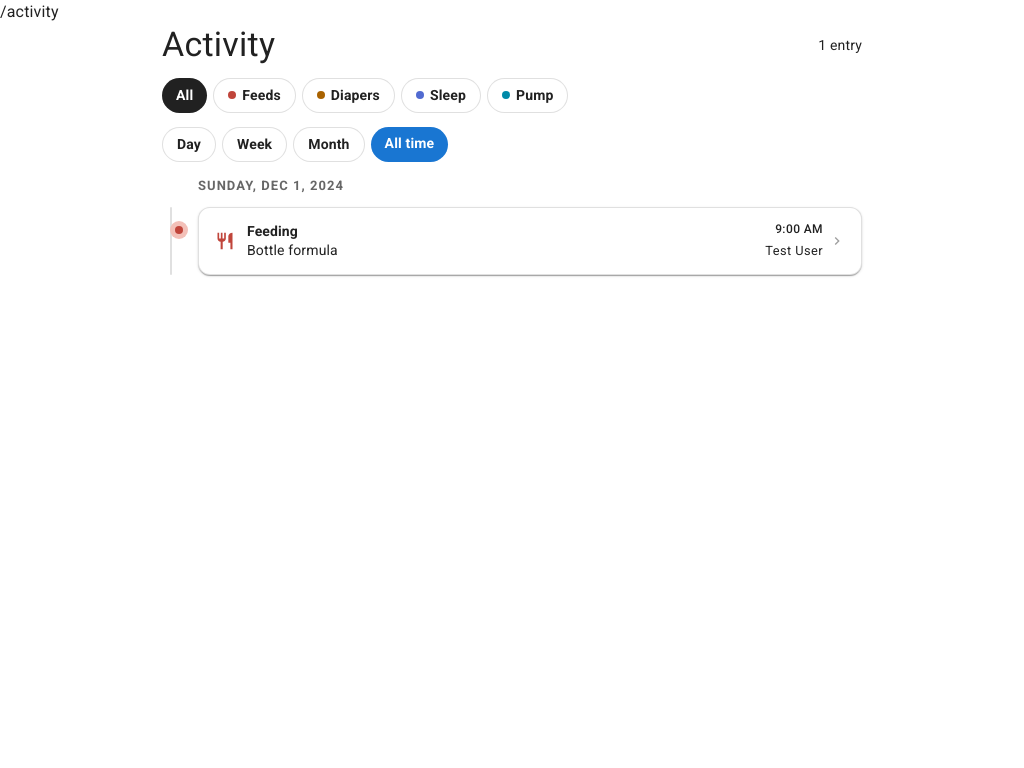
it: tapping an activity entry › navigates from the activity feed to the entry's section page in edit mode
The image size is (1024, 768).
Click the button with aria-label "Edit Feeding, Bottle formula at": [272, 231] box x1=198 y1=208 x2=862 y2=275
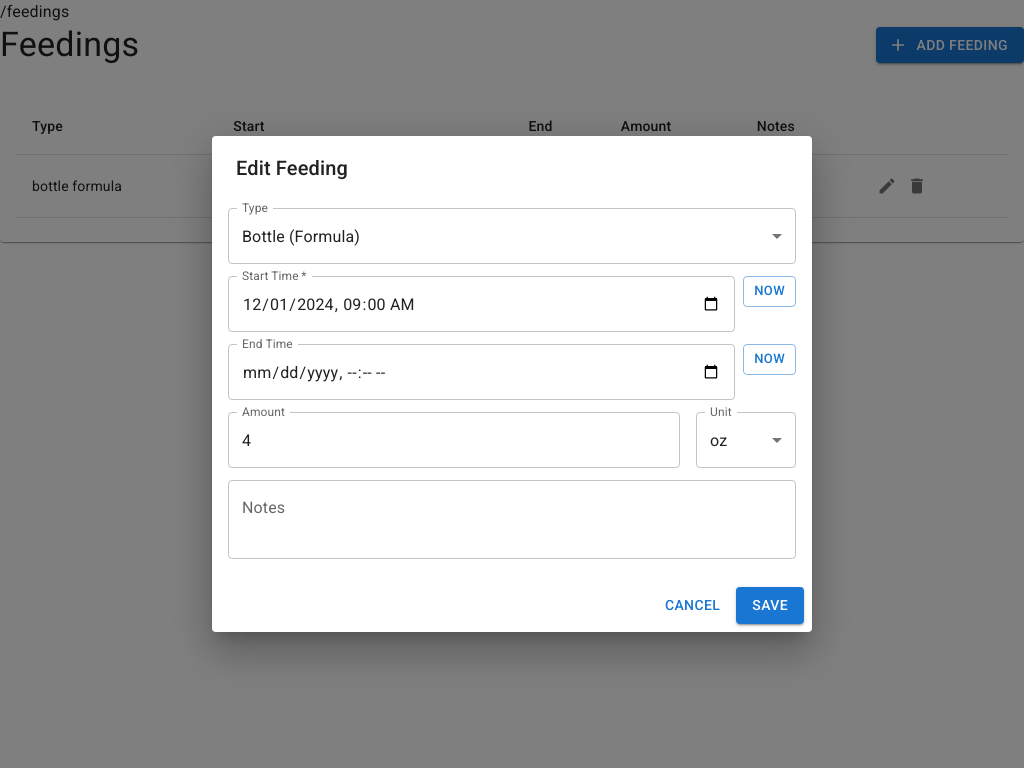
Check: the text with test id "location" reads "/feedings", box x1=0 y1=2 x2=69 y2=21
Check: the heading "Edit Feeding" is shown, box x1=236 y1=156 x2=348 y2=180
